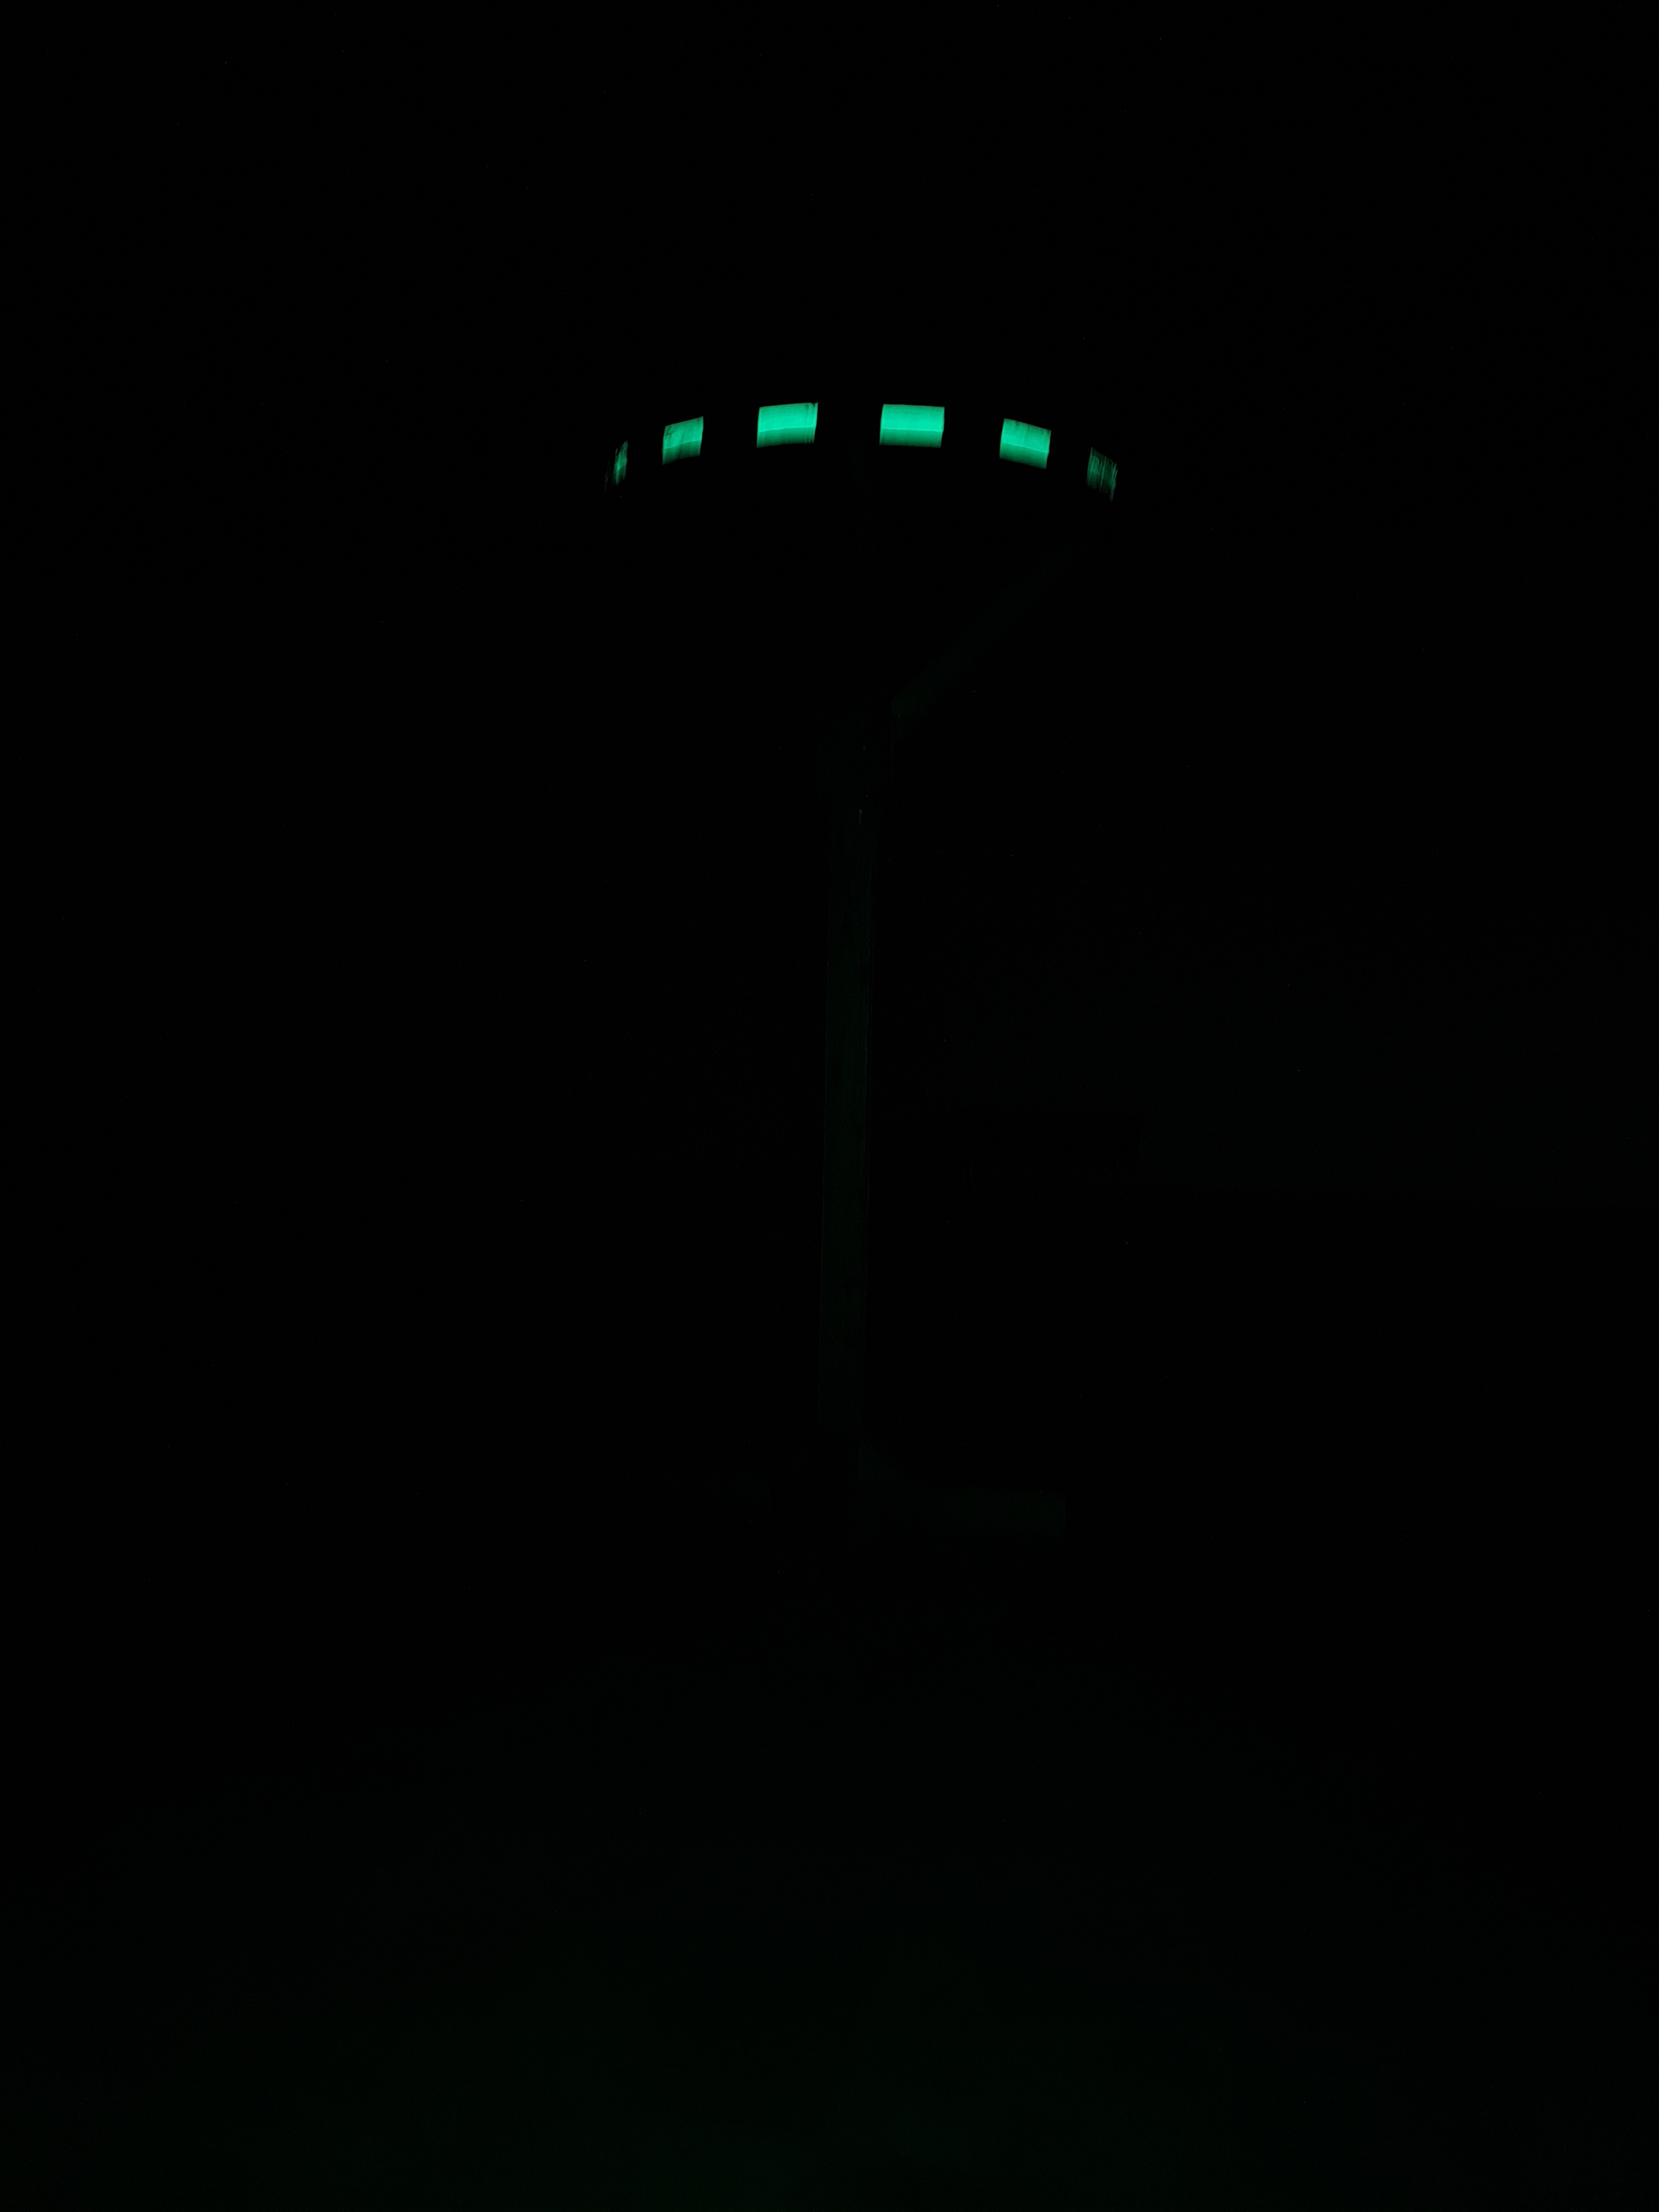hoop: (594, 401, 1124, 502)
